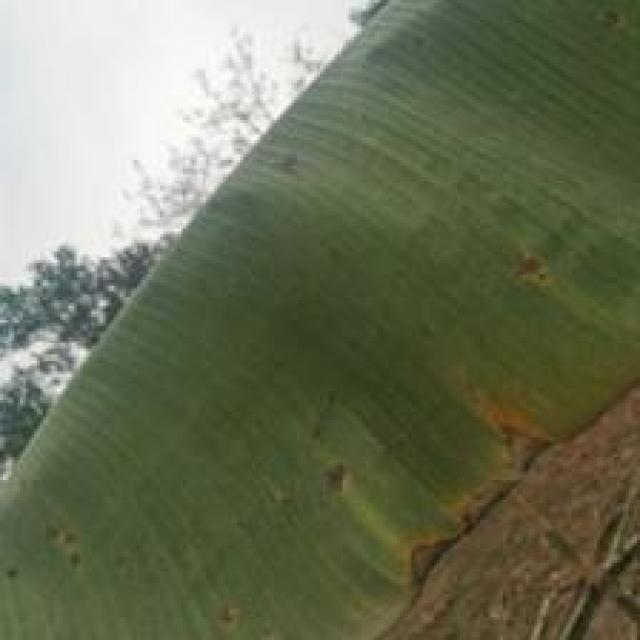Downey_mildrew: (298, 233, 626, 617), (31, 498, 140, 589), (257, 155, 346, 212), (200, 606, 260, 630), (597, 0, 637, 34)
